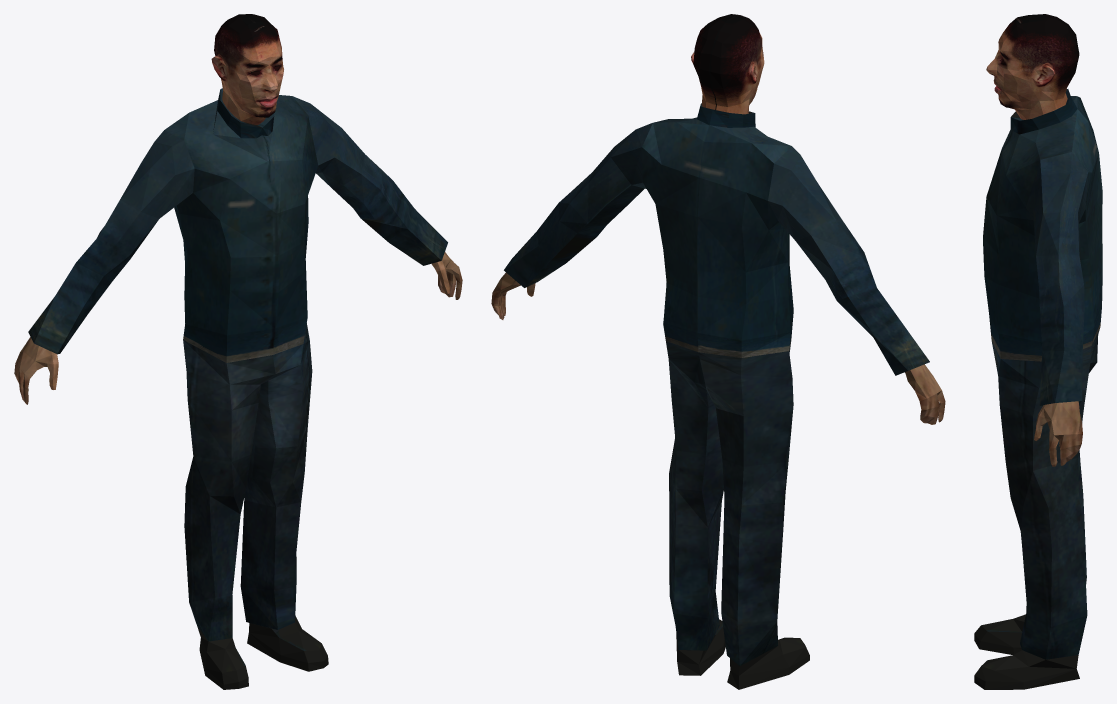
File: male_cheaple.obj
3 views of the same model, side by side, from view 1: azimuth 30°, elevation 25°; view 2: azimuth 150°, elevation 25°; view 3: azimuth 270°, elevation 25° (orthographic).
Parts seen in each view (by area): view 1: male_cheaple_reference; view 2: male_cheaple_reference; view 3: male_cheaple_reference.
Part boxes in pixels (x1,y1,x2,y2): male_cheaple_reference: (14,14,462,689); male_cheaple_reference: (491,14,945,689); male_cheaple_reference: (974,14,1102,689).
Size of the model in its own units: 52.12 by 72.84 by 13.11.
1 material, 1 textured.
